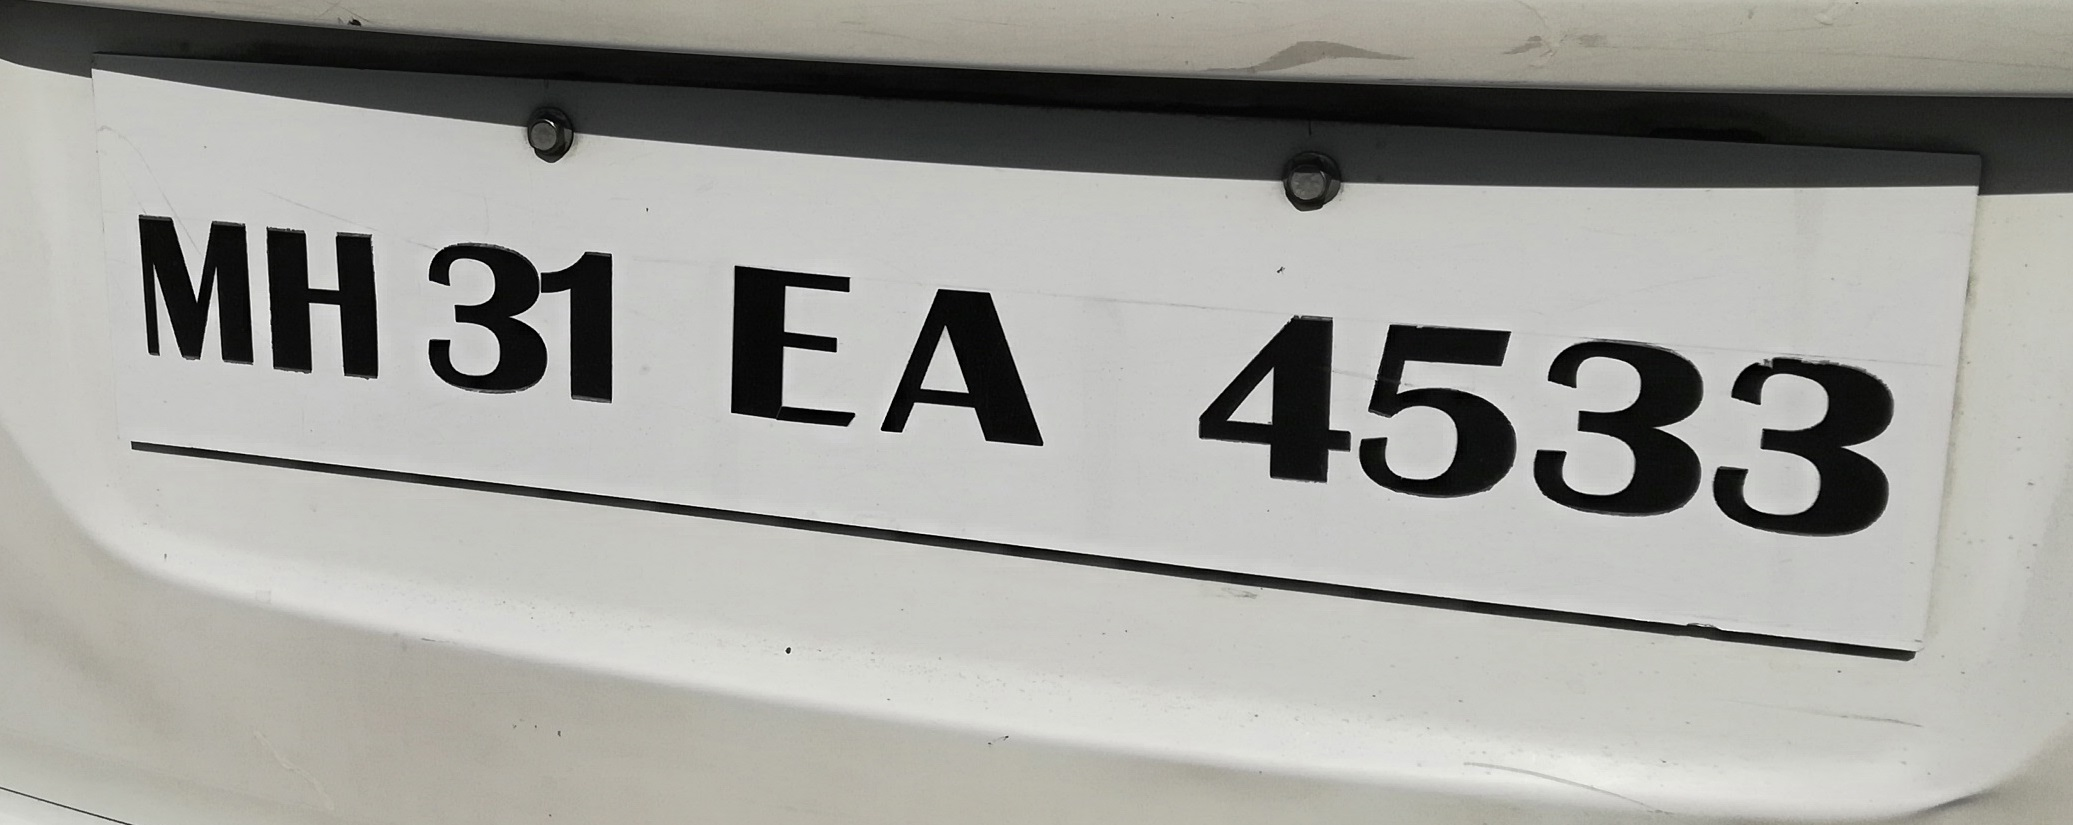numberplate: (80, 50, 1983, 667)
